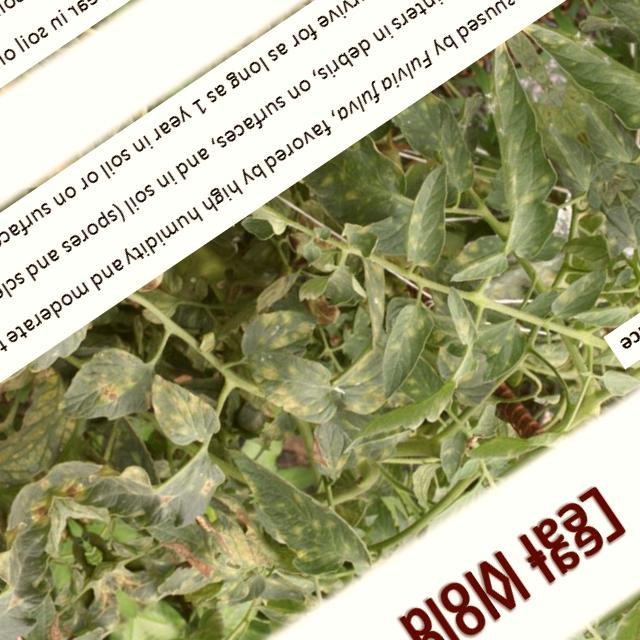Tomato mold leaf: (420, 43, 615, 260), (220, 408, 383, 595), (39, 403, 214, 575), (304, 296, 461, 438), (36, 330, 170, 457), (369, 156, 491, 278), (0, 368, 112, 491), (547, 123, 640, 266), (243, 327, 355, 445), (127, 348, 234, 462), (396, 88, 497, 202), (575, 147, 640, 291), (456, 312, 539, 391), (440, 231, 520, 303), (539, 263, 615, 330), (431, 286, 486, 350)
